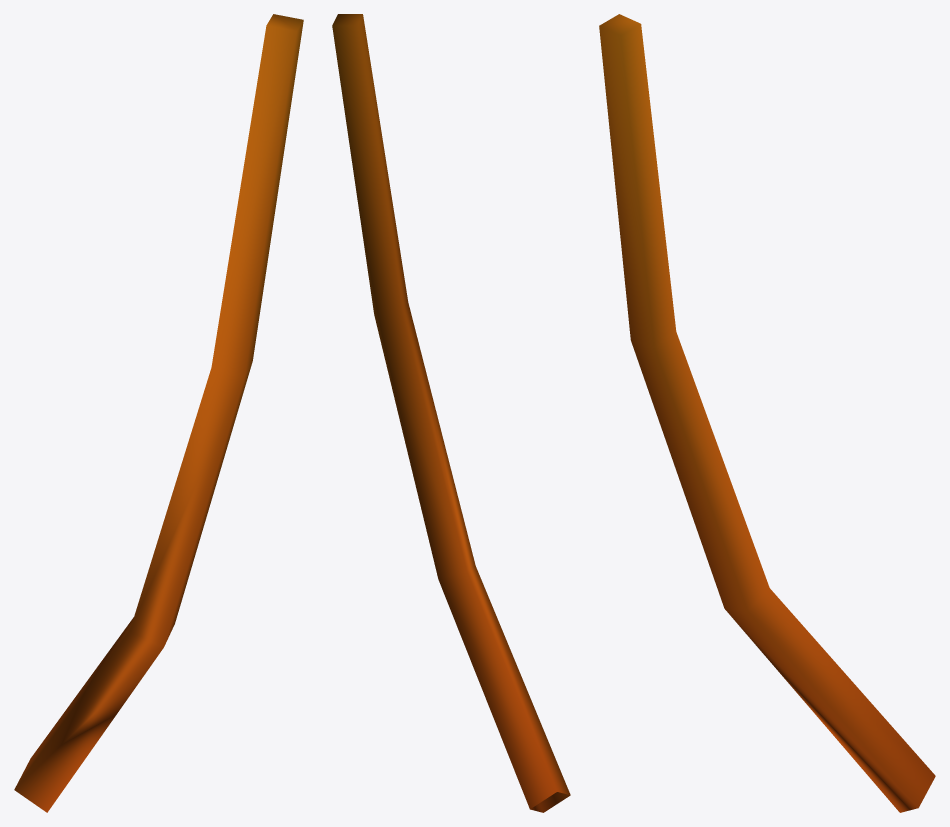
The model's file is SM_WheatPlants_13.fbx.
The picture shows the model from 3 angles, left to right: view 1: azimuth 30°, elevation 25°; view 2: azimuth 210°, elevation 25°; view 3: azimuth 270°, elevation 25°; orthographic projection. The views are drawn at different scales.
Visible parts, largest first — view 1: SM_WheatPlants_13; view 2: SM_WheatPlants_13; view 3: SM_WheatPlants_13.
Part boxes in pixels (x1=…): SM_WheatPlants_13: x1=14, y1=14, x2=303, y2=812; SM_WheatPlants_13: x1=332, y1=14, x2=570, y2=812; SM_WheatPlants_13: x1=599, y1=14, x2=935, y2=812.
Size of the model in its own units: 0.0575 by 0.3625 by 0.133.
